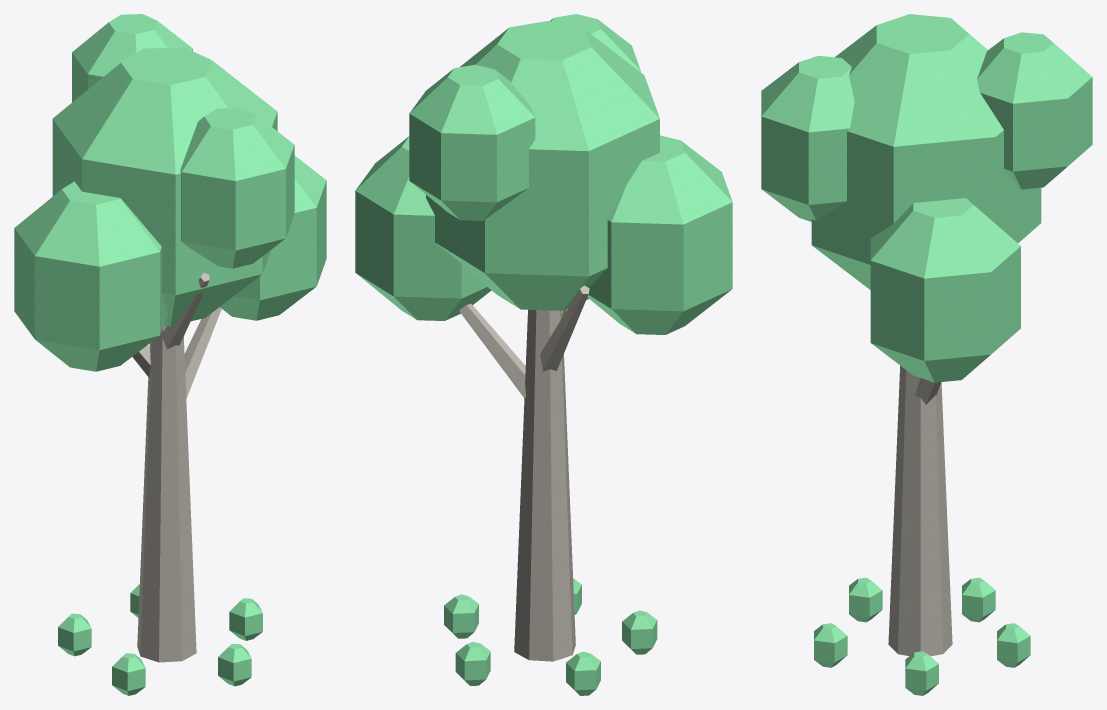
The model's file is tree_glow_01.glb.
3 views of the same model, side by side, from view 1: azimuth 30°, elevation 25°; view 2: azimuth 150°, elevation 25°; view 3: azimuth 270°, elevation 25° (orthographic). The views are drawn at different scales.
Parts seen in each view (by area): view 1: tree_glow_01; view 2: tree_glow_01; view 3: tree_glow_01.
Part boxes in pixels (<box>): tree_glow_01: <box>14,14,326,695</box>; tree_glow_01: <box>355,14,732,695</box>; tree_glow_01: <box>761,14,1092,695</box>.
Bounding box in the file's own units: 3.58 × 6.38 × 3.1.
2 materials, 2 textured.
